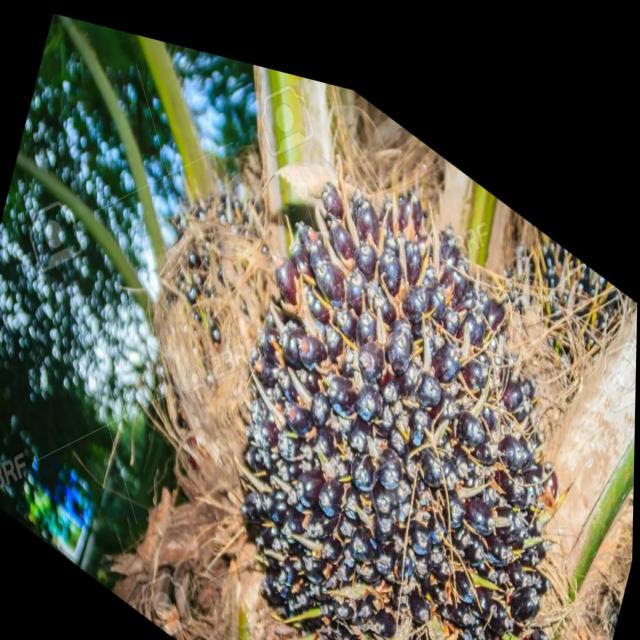Unripe: (196, 75, 629, 640)
